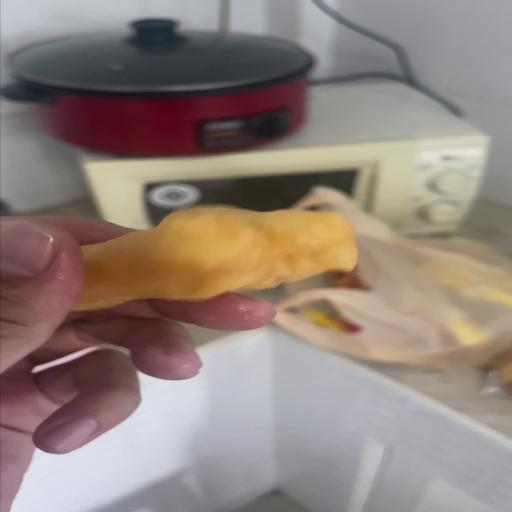street_golden_good: (74, 206, 357, 311)
